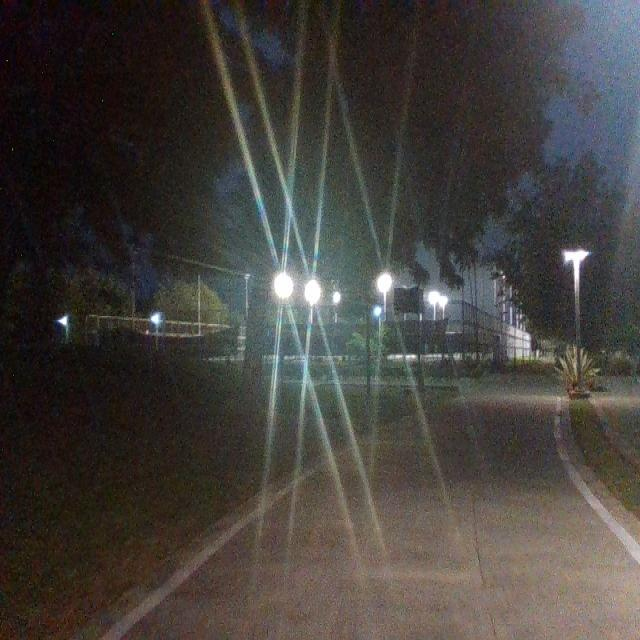lane: (121, 397, 640, 640)
